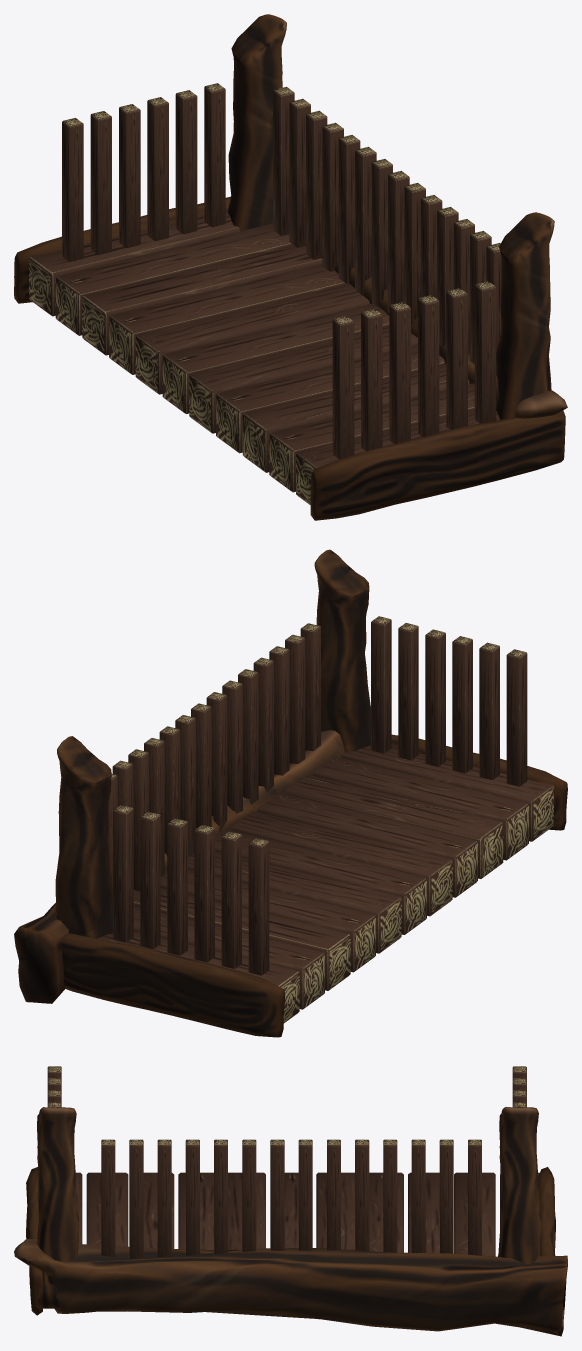
The model's file is Makchara.fbx.
The picture shows the model from 3 angles, top to bottom: view 1: azimuth 30°, elevation 25°; view 2: azimuth 150°, elevation 25°; view 3: azimuth 270°, elevation 25°; orthographic projection. The views are drawn at different scales.
Parts seen in each view (by area): view 1: Beam1_25cm.001; view 2: Beam1_25cm.001; view 3: Beam1_25cm.001.
Boxes of the visible parts, x1=… form: Beam1_25cm.001: x1=14, y1=14, x2=567, y2=520; Beam1_25cm.001: x1=14, y1=549, x2=567, y2=1037; Beam1_25cm.001: x1=14, y1=1066, x2=567, y2=1336.
Size of the model in its own units: 186 by 168 by 377.
